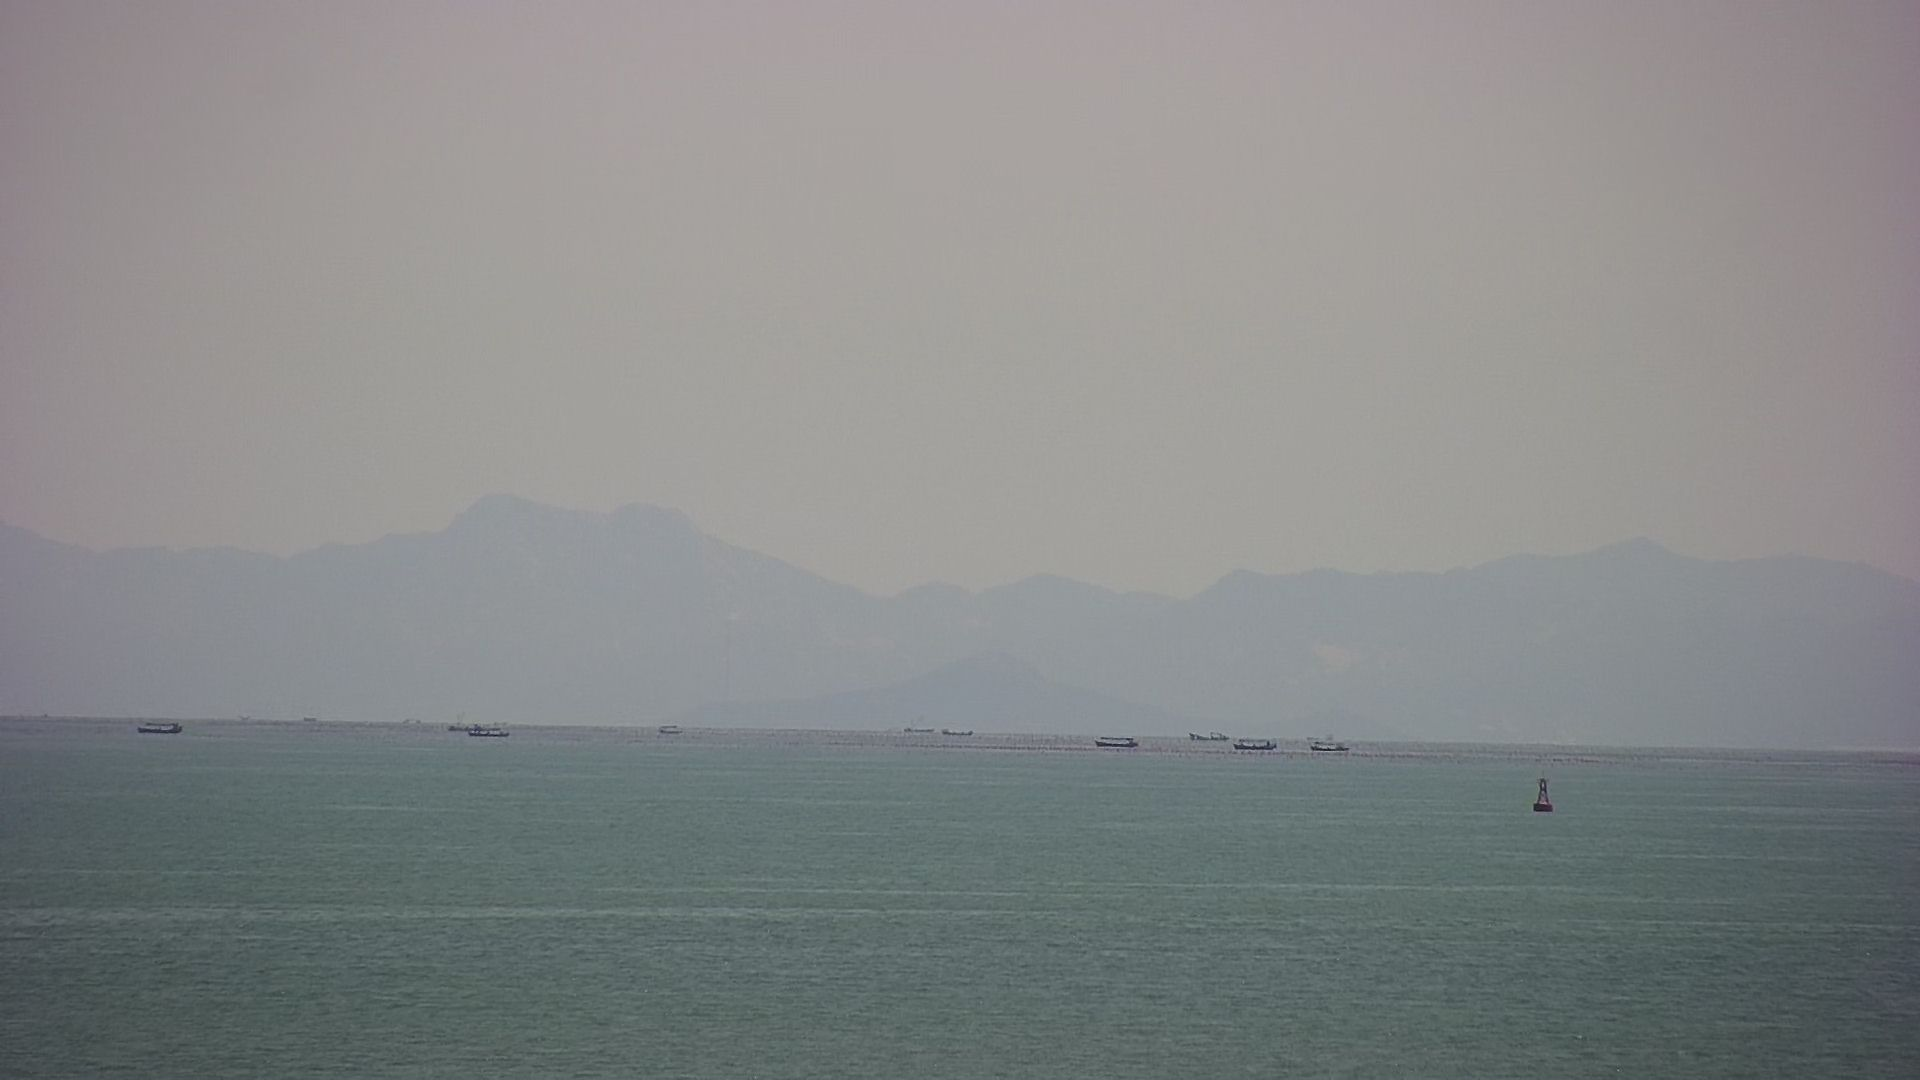boat: (1091, 732, 1143, 750), (1230, 735, 1280, 752)
buoy: (1528, 771, 1560, 815)
